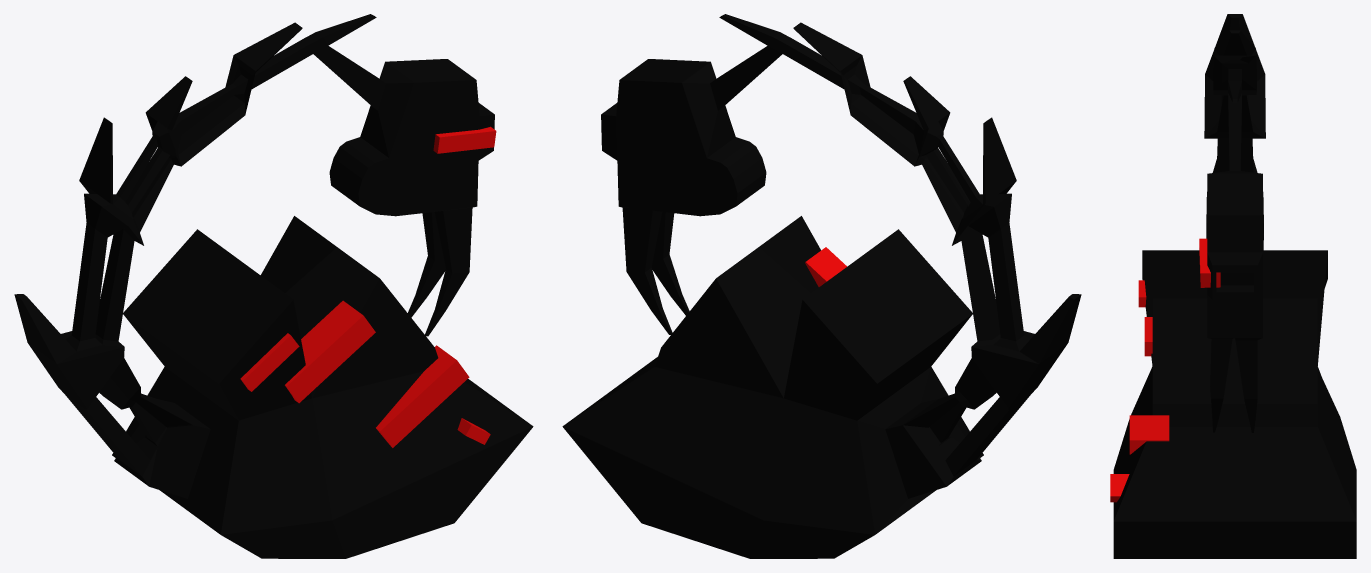
File: snake-v9.fbx
3 renders of one model, left to right at view 1: azimuth 30°, elevation 25°; view 2: azimuth 150°, elevation 25°; view 3: azimuth 270°, elevation 25°, orthographic. The views are drawn at different scales.
Visible parts, largest first — view 1: snake_v8:Mesh, pCube1, pCube3, pCube5, pCube2; view 2: snake_v8:Mesh, pCube1; view 3: snake_v8:Mesh, pCube3, pCube5, pCube4, pCube1.
Part boxes in pixels (x1,y1,x2,y2): snake_v8:Mesh: [14, 14, 533, 558]; pCube1: [285, 300, 375, 403]; pCube3: [376, 345, 469, 447]; pCube5: [433, 126, 496, 153]; pCube2: [240, 333, 299, 391]; snake_v8:Mesh: [562, 14, 1081, 558]; pCube1: [805, 247, 846, 286]; snake_v8:Mesh: [1113, 14, 1356, 558]; pCube3: [1129, 415, 1169, 454]; pCube5: [1199, 238, 1220, 287]; pCube4: [1110, 474, 1129, 502]; pCube1: [1144, 317, 1152, 356].
Size of the model in its own units: 4.93 by 4.9 by 2.34.
